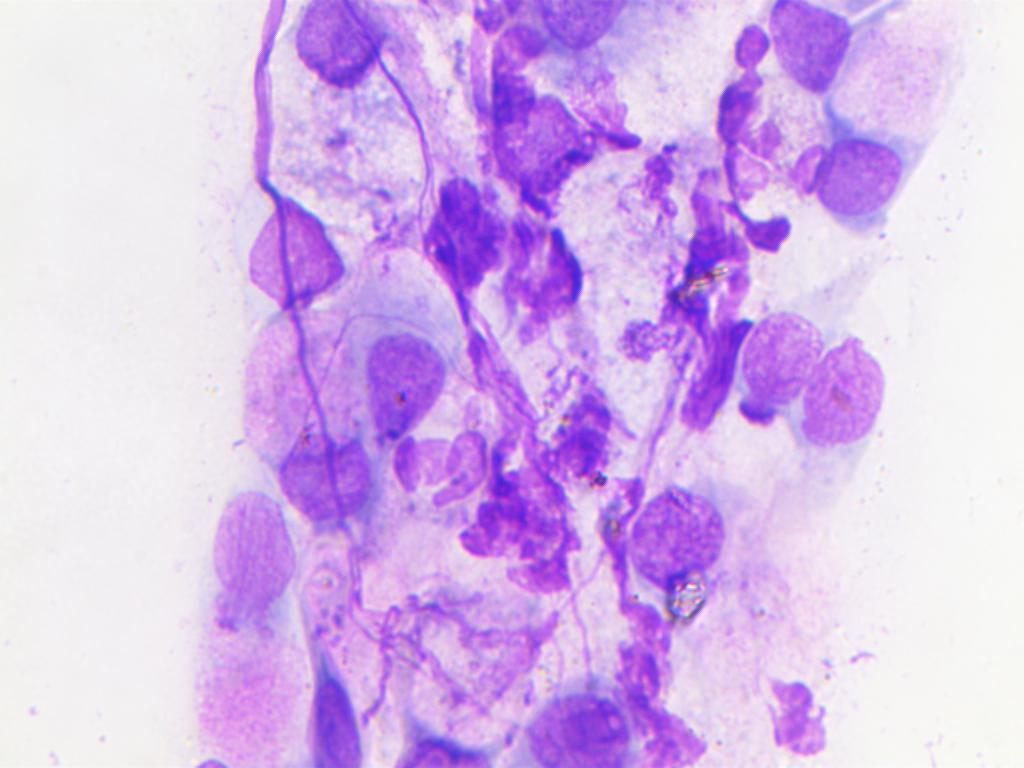artifact: (644, 149, 744, 453), (462, 452, 592, 592), (404, 153, 510, 306), (516, 358, 621, 496), (499, 201, 602, 336), (390, 431, 495, 510), (762, 676, 839, 763)
epithelial: (305, 550, 402, 766), (480, 76, 616, 207), (353, 276, 451, 443), (233, 177, 352, 305), (209, 481, 300, 635), (621, 485, 739, 597), (745, 290, 829, 430), (283, 1, 396, 97), (803, 325, 889, 445), (522, 683, 629, 767), (756, 1, 847, 99)
goblet_cell: (805, 29, 941, 227), (391, 598, 518, 768), (277, 362, 367, 527)
